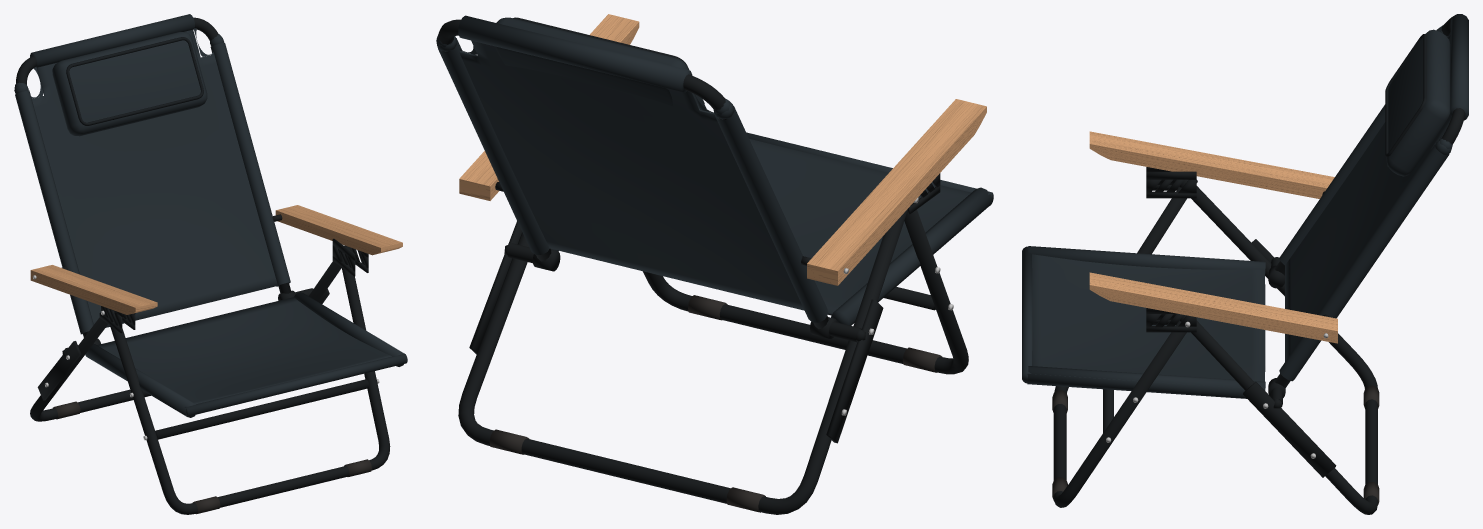
Rendered from fieldoor-reclining-low-chair.glb.
3 renders of one model, left to right at view 1: azimuth 30°, elevation 25°; view 2: azimuth 150°, elevation 25°; view 3: azimuth 270°, elevation 25°, orthographic. The views are drawn at different scales.
Size of the model in its own units: 0.61 by 0.72 by 0.74.
Materials: 6 (1 with a texture image).
